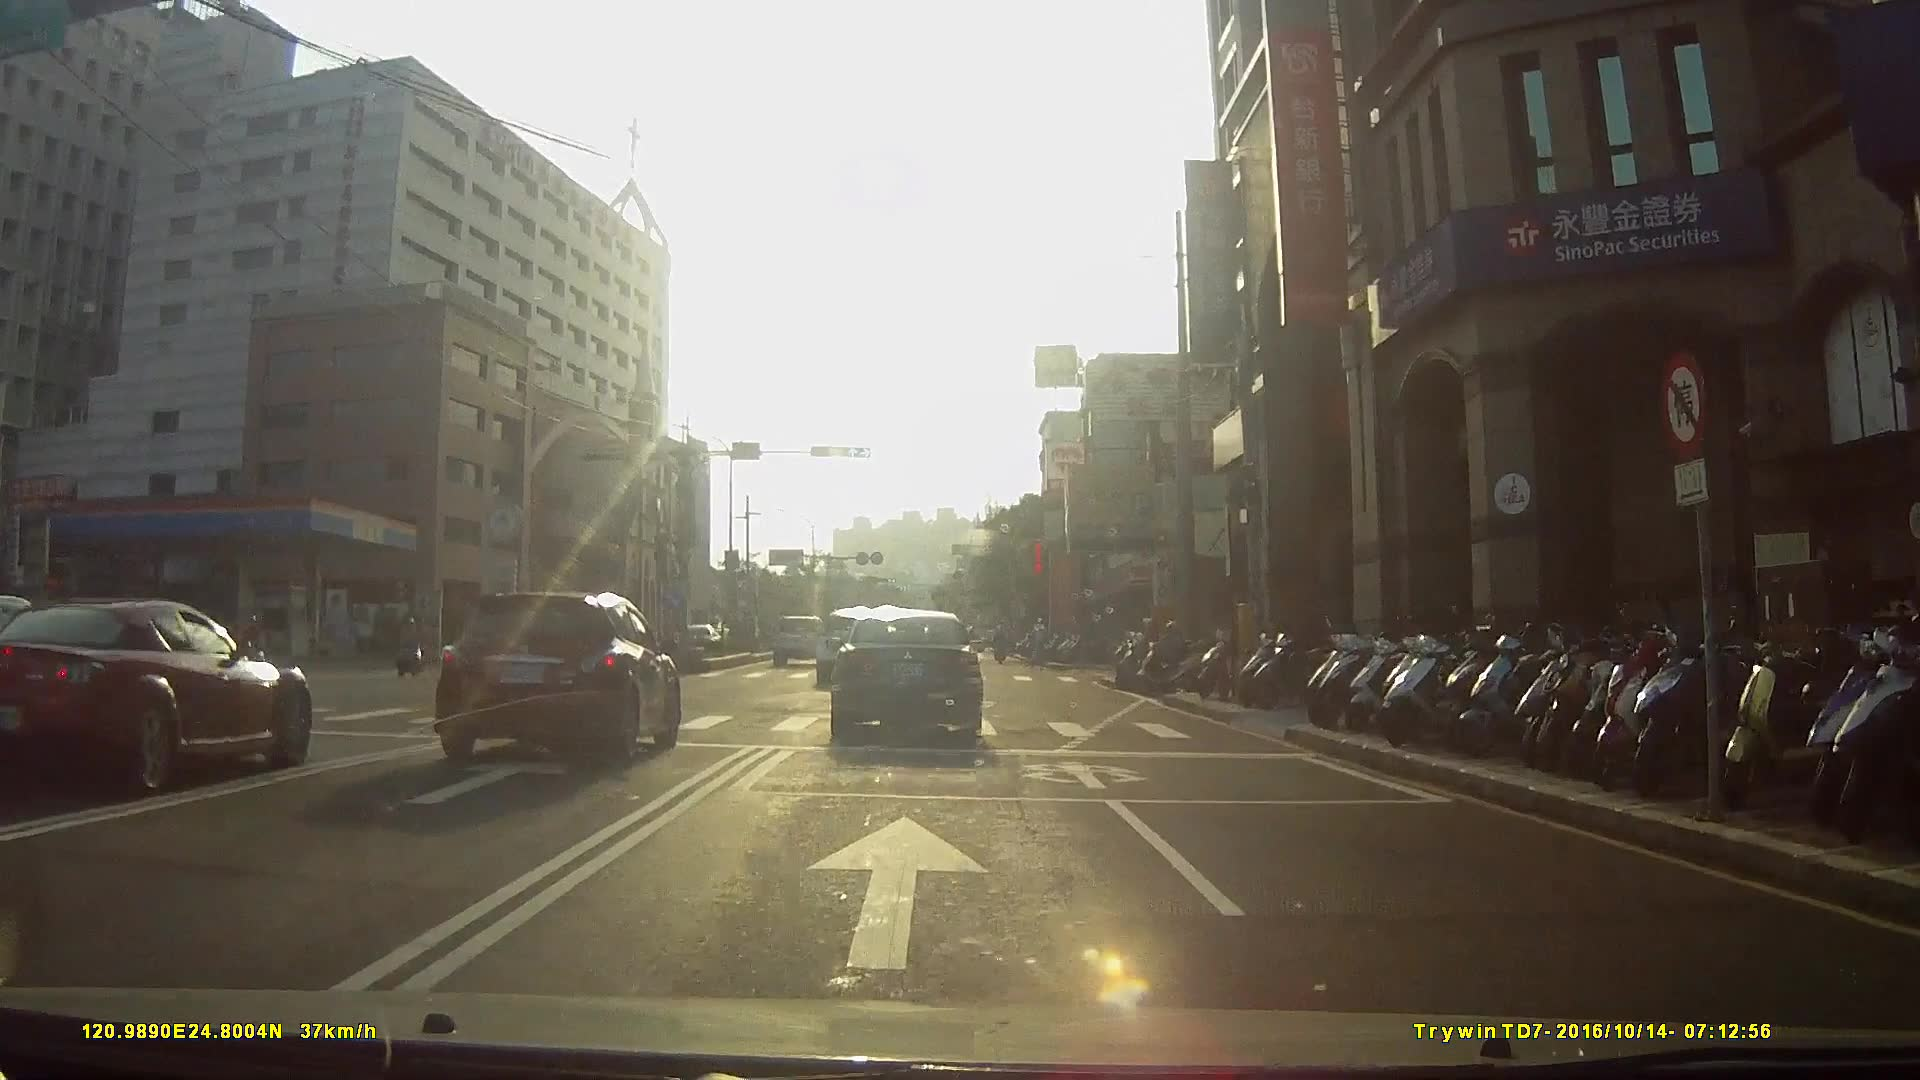rider: (1129, 619, 1217, 697), (235, 611, 270, 681), (399, 618, 429, 678)
vehicle: (1, 600, 317, 803), (425, 587, 695, 772), (824, 607, 997, 746), (815, 606, 894, 690), (773, 612, 832, 667)
